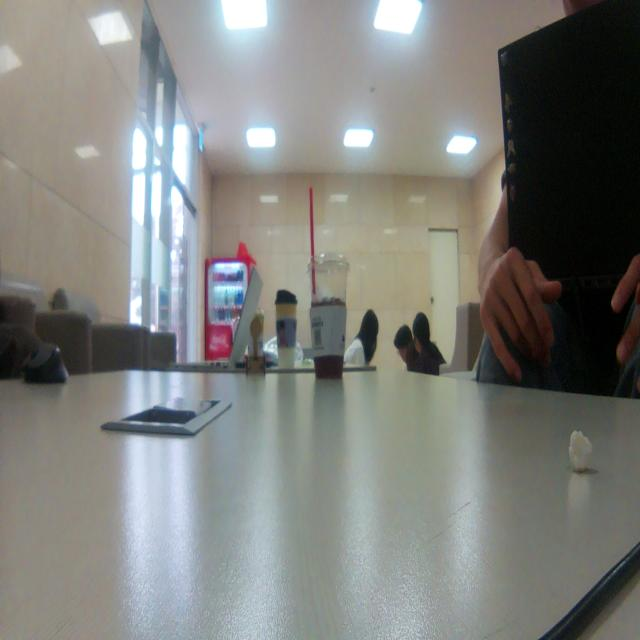target: (245, 310, 267, 376)
